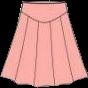Hemline: (0, 74, 87, 85)
Waistline: (20, 11, 66, 22), (23, 1, 65, 4)
